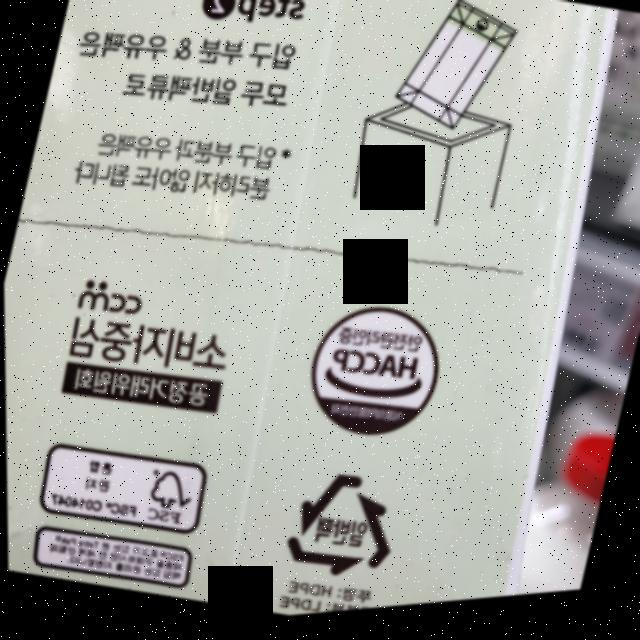NormalPack: (274, 455, 413, 603)
